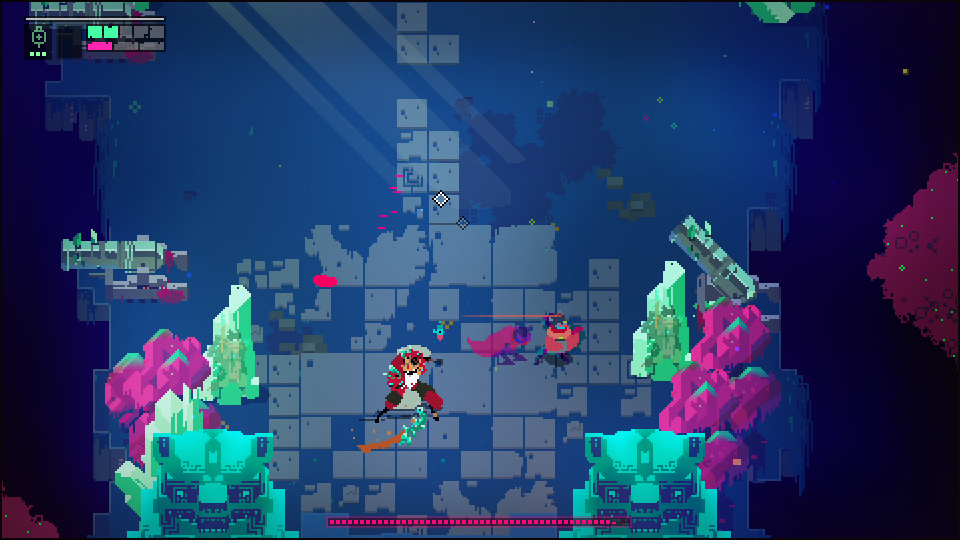hanged_man: (364, 344, 447, 451)
player: (542, 312, 573, 368)
